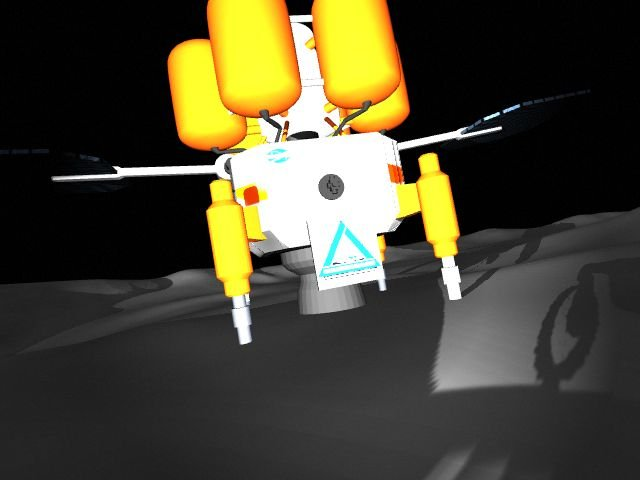basemarker: (317, 219, 383, 279)
